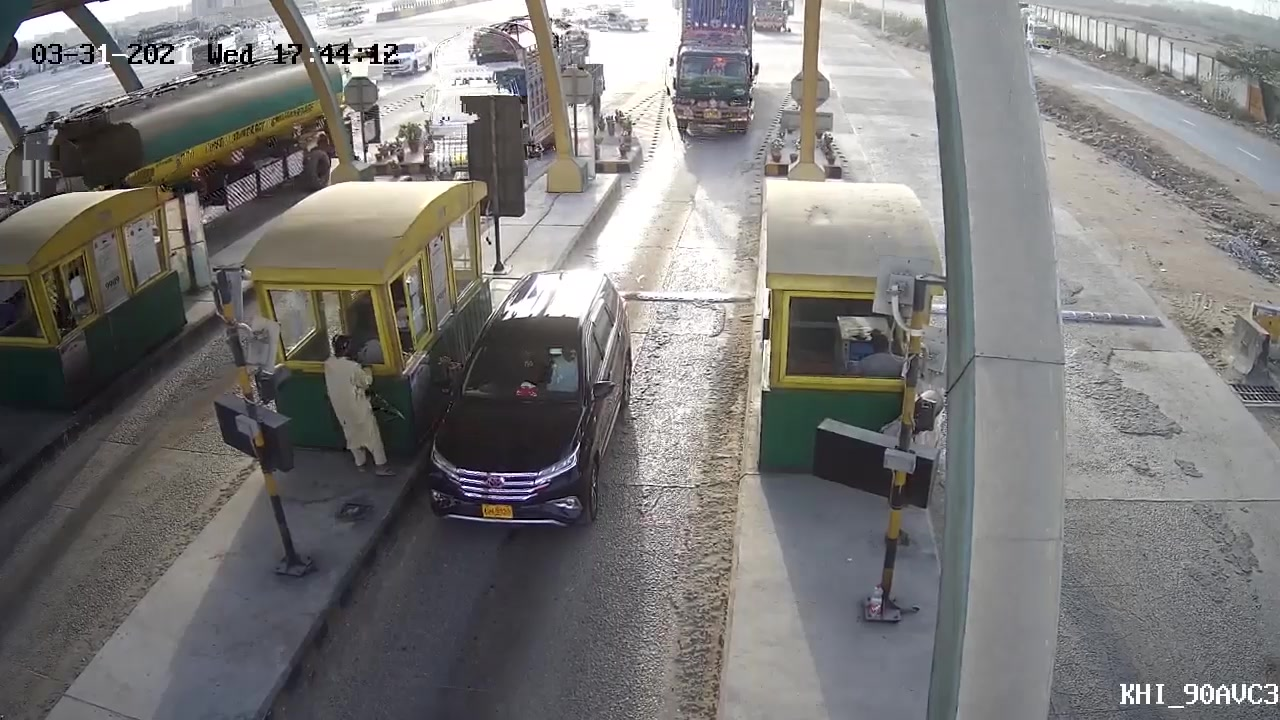F1: (424, 249, 646, 533)
